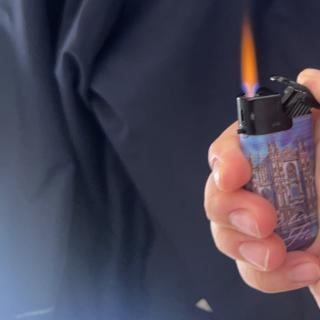fire: (237, 21, 261, 92)
